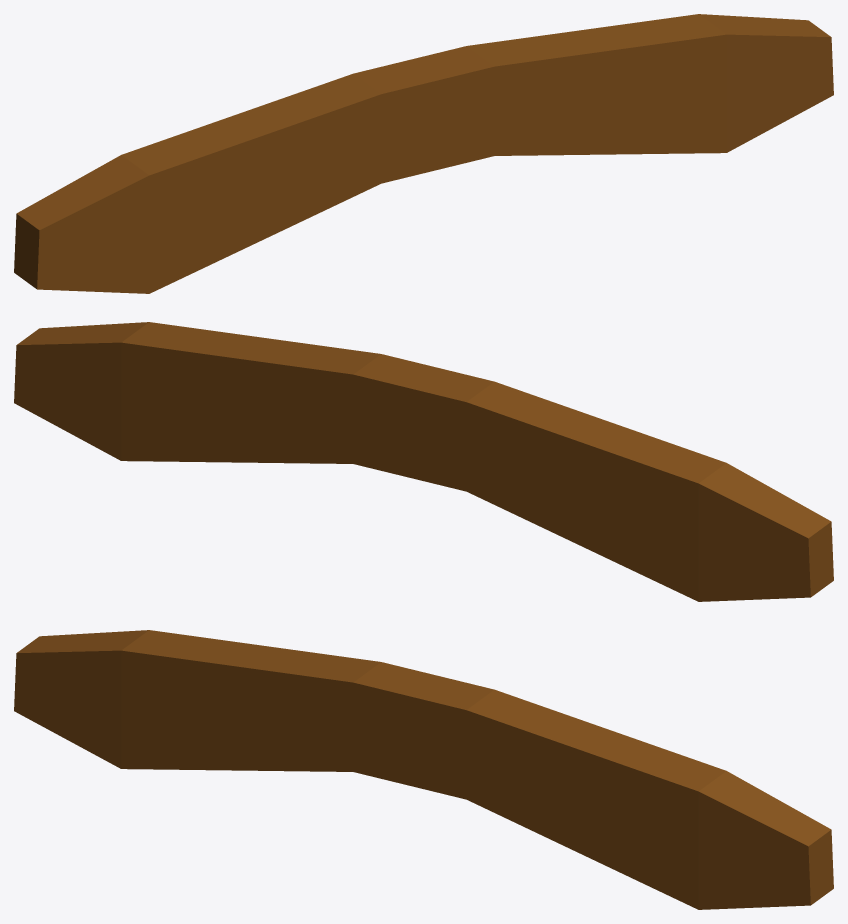
Rendered from Amercian Mustache.fbx.
3 renders of one model, top to bottom at view 1: azimuth 30°, elevation 25°; view 2: azimuth 150°, elevation 25°; view 3: azimuth 330°, elevation 25°, orthographic.
Visible parts, largest first — view 1: Mustache Amercian; view 2: Mustache Amercian; view 3: Mustache Amercian.
Boxes of the visible parts, bbox=[...] form: Mustache Amercian: bbox=[14, 14, 833, 293]; Mustache Amercian: bbox=[14, 322, 833, 601]; Mustache Amercian: bbox=[14, 630, 833, 909].
Bounding box in the file's own units: 1113 × 191 × 68.05.
